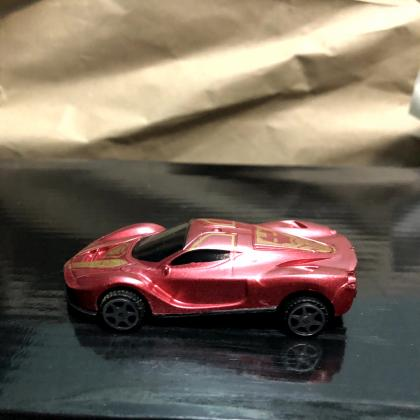Car: (63, 218, 358, 339)
